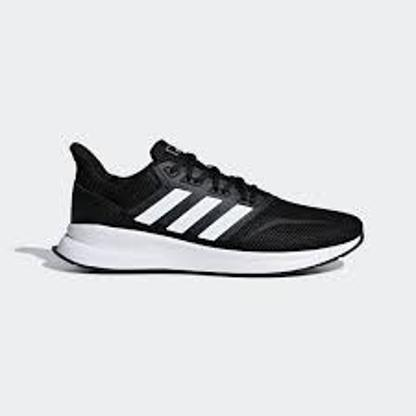not trash: (51, 134, 362, 272)
